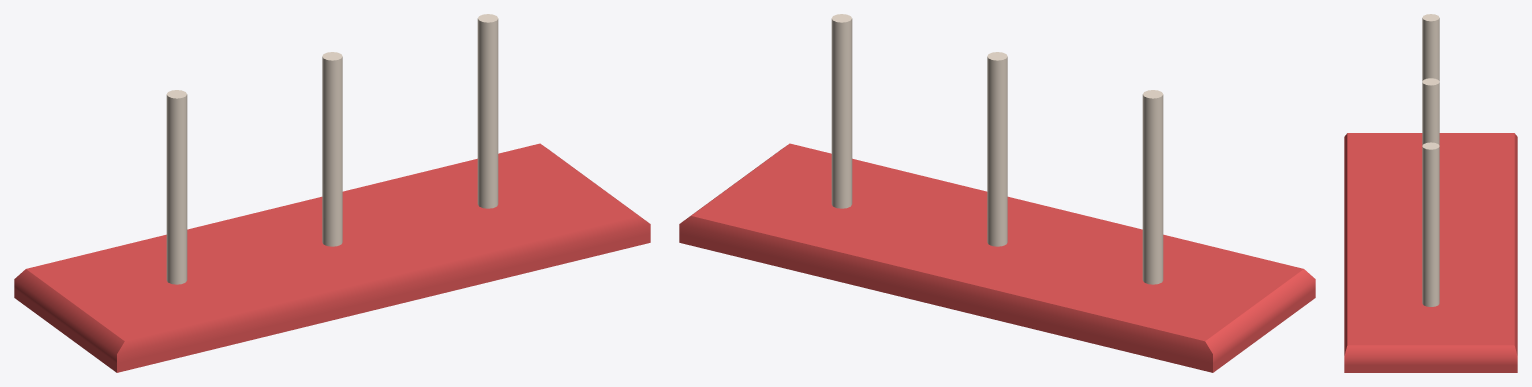
The model's file is hanoi.gltf.
The picture shows the model from 3 angles, left to right: view 1: azimuth 30°, elevation 25°; view 2: azimuth 150°, elevation 25°; view 3: azimuth 270°, elevation 25°; orthographic projection. The views are drawn at different scales.
Parts seen in each view (by area): view 1: Board, C, A, B; view 2: Board, C, A, B; view 3: Board, C, A, B.
Boxes of the visible parts, <box> form: Board: <box>14,143,650,372</box>; C: <box>477,14,498,208</box>; A: <box>166,90,187,284</box>; B: <box>322,52,342,246</box>; Board: <box>679,143,1315,372</box>; C: <box>831,14,852,208</box>; A: <box>1142,90,1163,284</box>; B: <box>987,52,1007,246</box>; Board: <box>1344,133,1517,372</box>; C: <box>1422,142,1439,306</box>; A: <box>1422,14,1439,81</box>; B: <box>1422,78,1439,145</box>.
Size of the model in its own units: 3.05 by 1.17 by 1.02.
